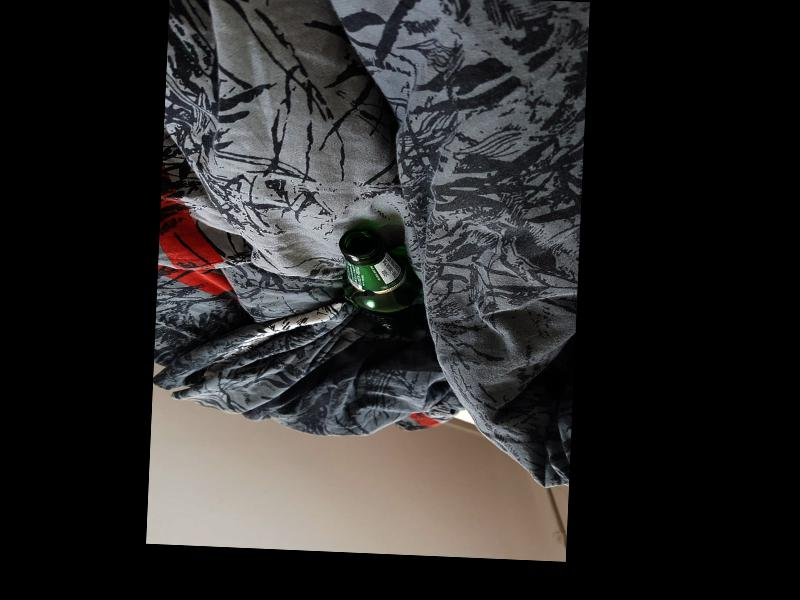Beer: (338, 227, 423, 333)
